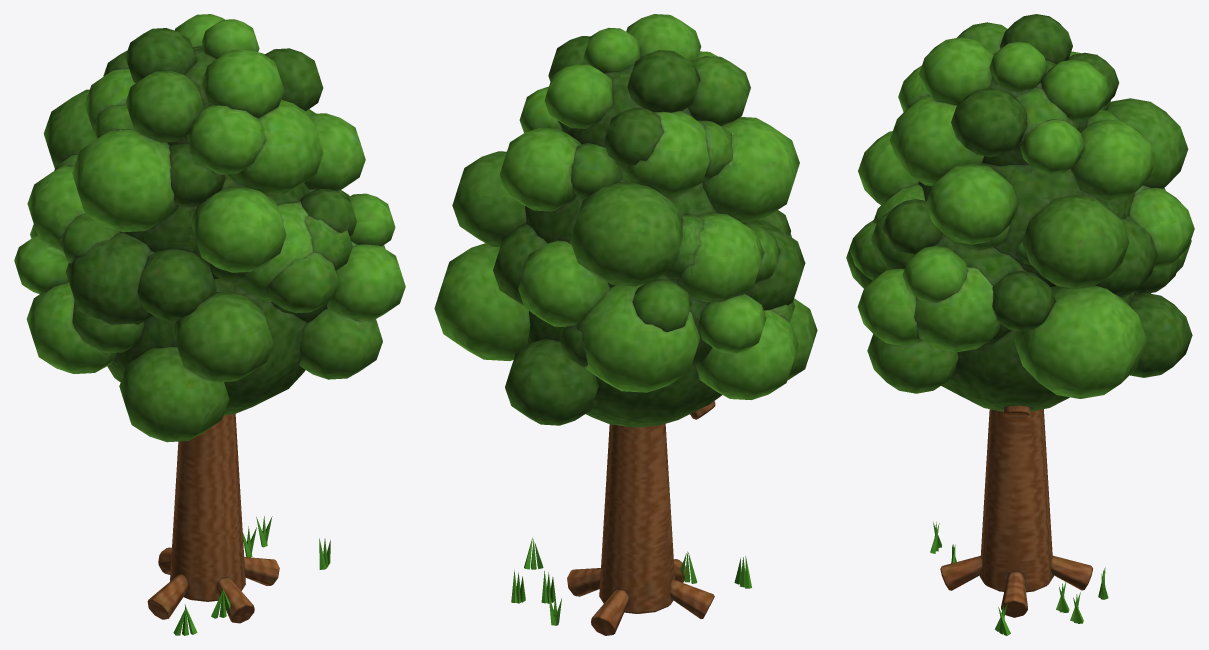
The model's file is durian_tree.glb.
The picture shows the model from 3 angles, left to right: view 1: azimuth 30°, elevation 25°; view 2: azimuth 150°, elevation 25°; view 3: azimuth 270°, elevation 25°; orthographic projection. The views are drawn at different scales.
Visible parts, largest first — view 1: crown, durian_tree; view 2: crown, durian_tree; view 3: crown, durian_tree.
Boxes of the visible parts, x1,y1,x2,y2 form: crown: (14, 14, 405, 442); durian_tree: (147, 414, 330, 635); crown: (434, 14, 817, 427); durian_tree: (511, 401, 751, 635); crown: (846, 14, 1194, 411); durian_tree: (930, 405, 1108, 635).
Size of the model in its own units: 1.02 by 1.7 by 0.9662.
Materials: 1 (1 with a texture image).
